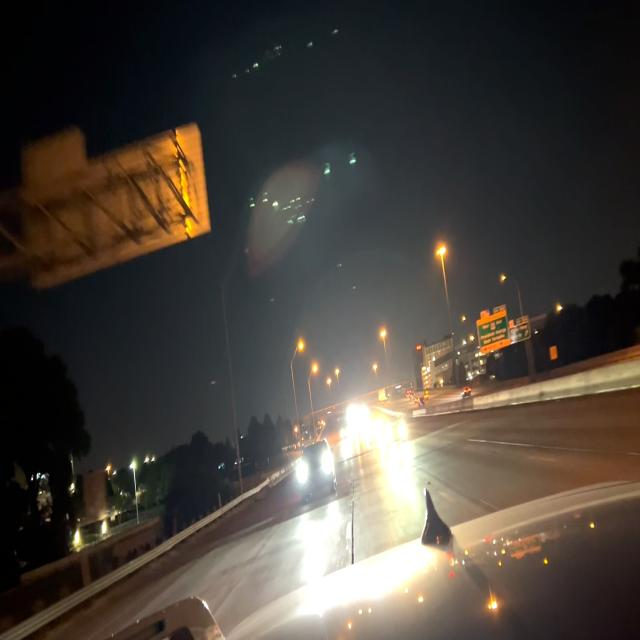back-of-sign: (23, 128, 211, 283)
